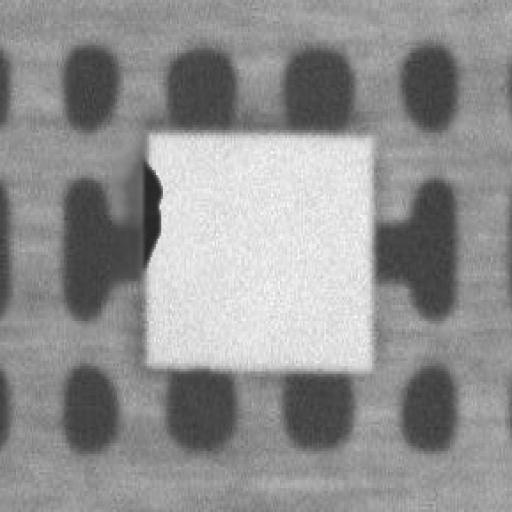DIE_BROKEN: (204, 99, 247, 177)
